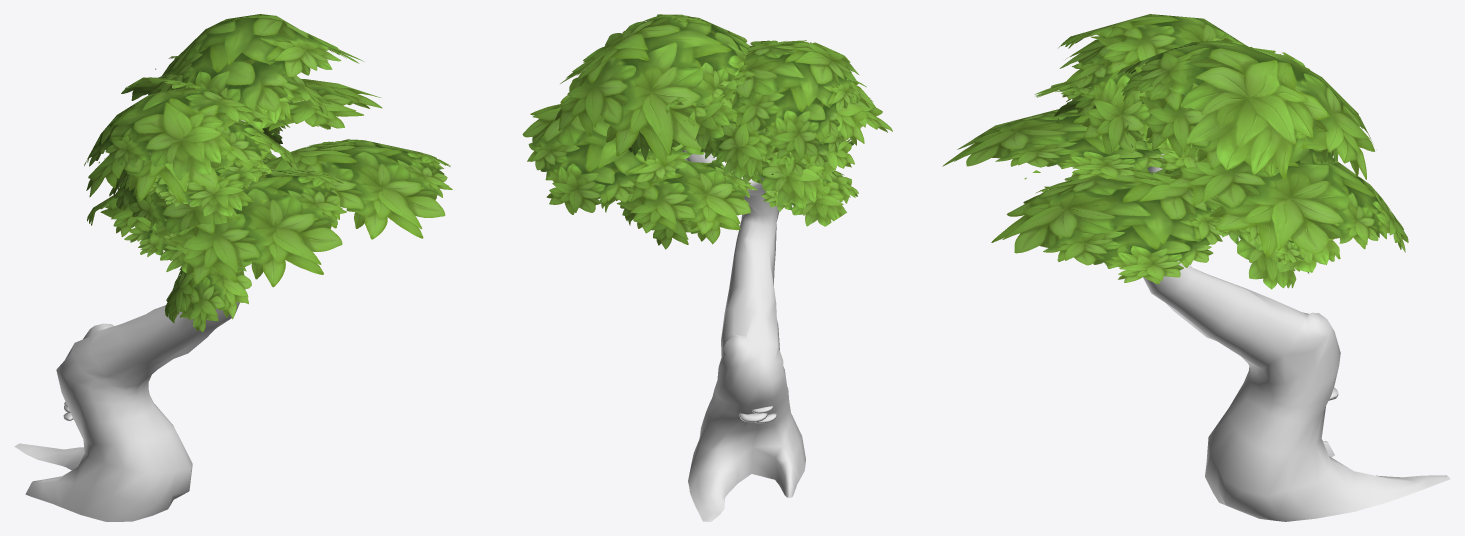
The model's file is Tree_02.fbx.
The picture shows the model from 3 angles, left to right: view 1: azimuth 30°, elevation 25°; view 2: azimuth 150°, elevation 25°; view 3: azimuth 270°, elevation 25°; orthographic projection. The views are drawn at different scales.
Visible parts, largest first — view 1: SM_Tree; view 2: SM_Tree; view 3: SM_Tree.
Boxes of the visible parts, <box> form: SM_Tree: <box>14,14,452,521</box>; SM_Tree: <box>522,14,892,521</box>; SM_Tree: <box>942,14,1450,521</box>.
Size of the model in its own units: 256 by 310 by 290.
